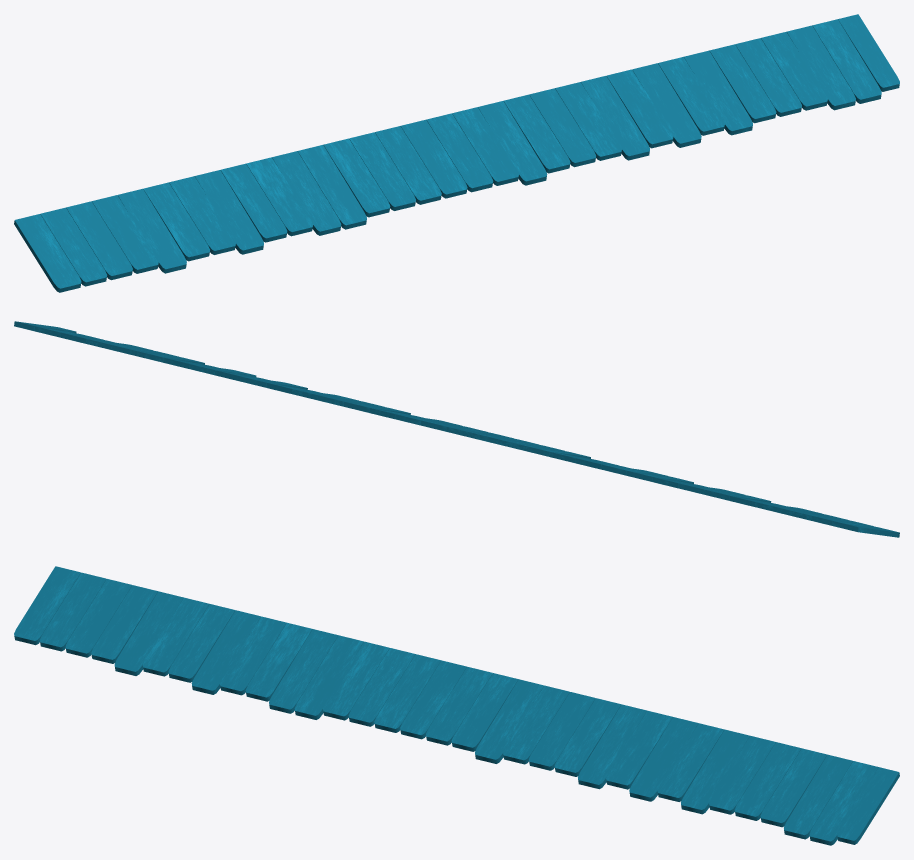
File: buildig.001_clay_(blue)_0.001_lev3.glb
3 views of the same model, one above another, from view 1: azimuth 30°, elevation 25°; view 2: azimuth 150°, elevation 25°; view 3: azimuth 330°, elevation 25° (orthographic).
Parts seen in each view (by area): view 1: buildig.001_clay_(blue)_0.001_lev3; view 2: buildig.001_clay_(blue)_0.001_lev3; view 3: buildig.001_clay_(blue)_0.001_lev3.
Boxes of the visible parts, bbox=[...] form: buildig.001_clay_(blue)_0.001_lev3: bbox=[14, 14, 899, 292]; buildig.001_clay_(blue)_0.001_lev3: bbox=[14, 321, 899, 537]; buildig.001_clay_(blue)_0.001_lev3: bbox=[14, 566, 899, 845].
Size of the model in its own units: 1.79 by 0.0933 by 0.1704.
Materials: 1 (1 with a texture image).
